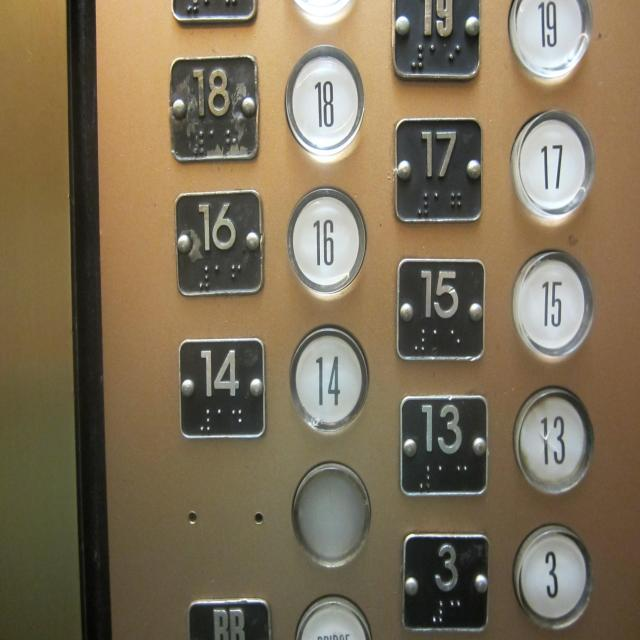13: (398, 392, 490, 498), (511, 384, 595, 496)
14: (287, 322, 371, 437), (178, 336, 266, 440)
15: (394, 255, 486, 364), (510, 247, 596, 361)
16: (173, 187, 265, 298), (284, 184, 368, 296)
17: (392, 115, 484, 225), (508, 107, 596, 218)
18: (167, 52, 260, 164), (284, 44, 366, 158)
19: (391, 0, 482, 85), (506, 0, 595, 80)
3: (399, 530, 491, 633), (511, 522, 595, 632)
empty: (290, 460, 372, 569)
